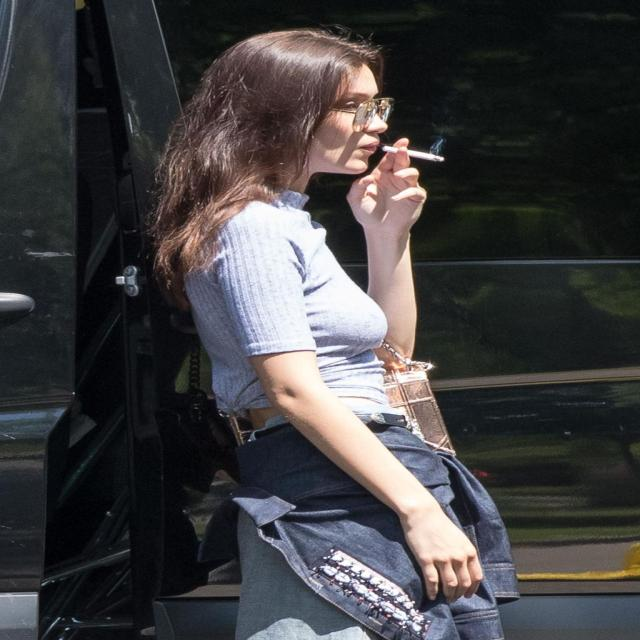smoking: (258, 30, 468, 241)
